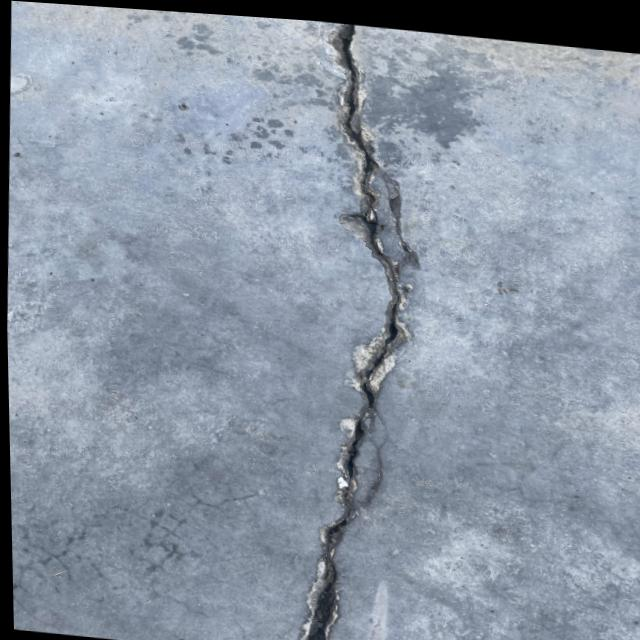Crack: (244, 13, 420, 640)
